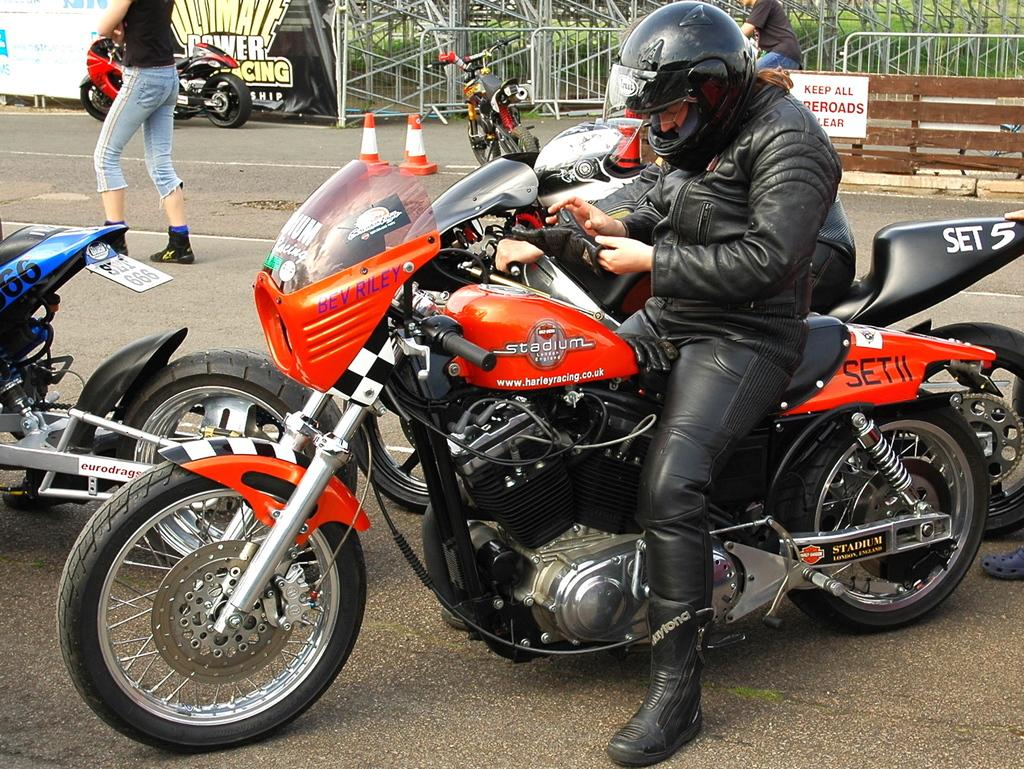helmet: (602, 0, 757, 172), (532, 118, 658, 222)
